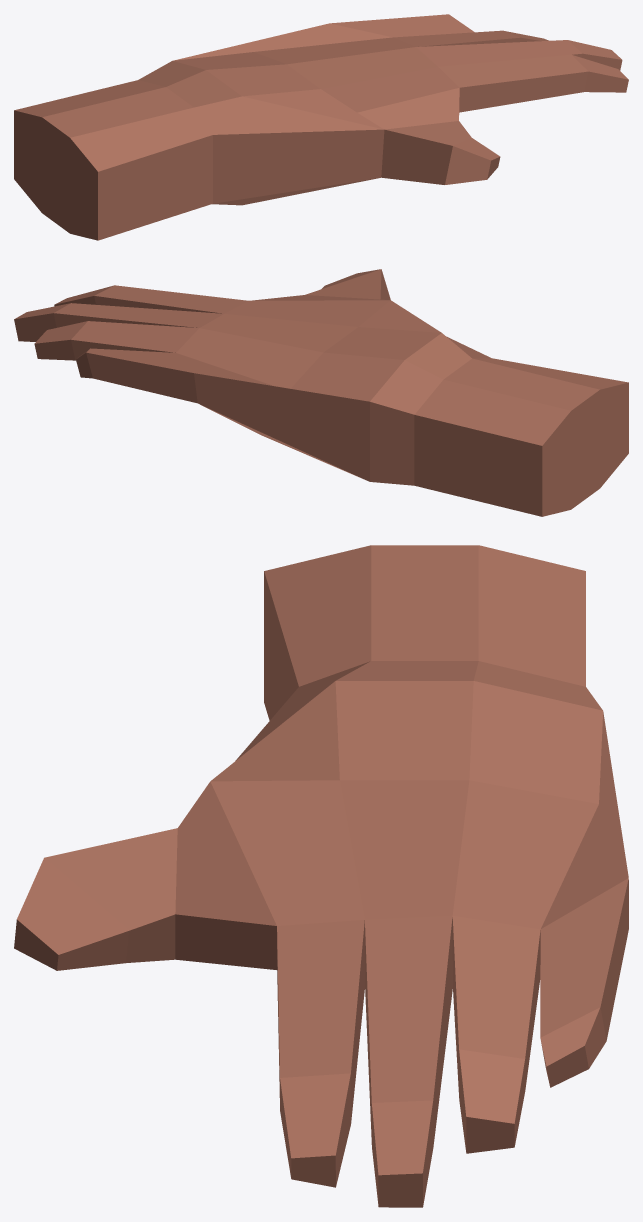
The model's file is hand.fbx.
3 views of the same model, one above another, from view 1: azimuth 30°, elevation 25°; view 2: azimuth 150°, elevation 25°; view 3: azimuth 270°, elevation 25° (orthographic). The views are drawn at different scales.
Visible parts, largest first — view 1: Cube; view 2: Cube; view 3: Cube.
Boxes of the visible parts, x1=… form: Cube: x1=14, y1=14, x2=628, y2=240; Cube: x1=14, y1=269, x2=628, y2=516; Cube: x1=14, y1=545, x2=628, y2=1207.
Size of the model in its own units: 682 by 128 by 342.
